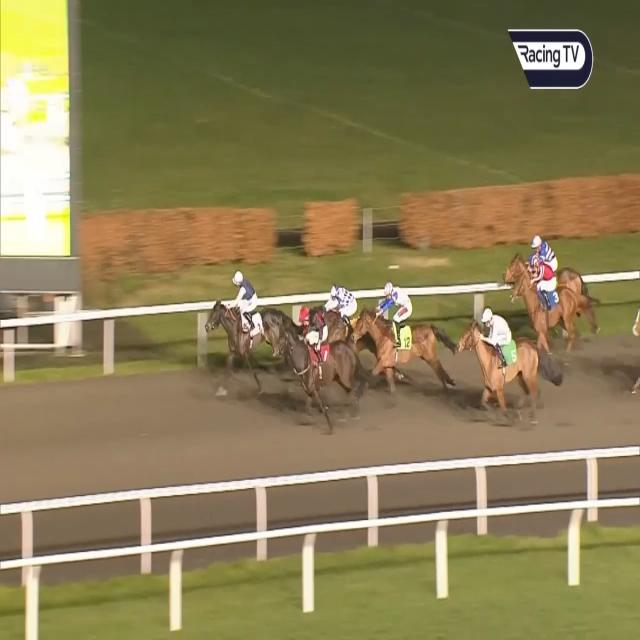horses-racing: (279, 306, 361, 419), (456, 308, 542, 402), (210, 273, 282, 380), (359, 286, 438, 383), (512, 259, 588, 342), (504, 230, 586, 296), (314, 279, 362, 335)
